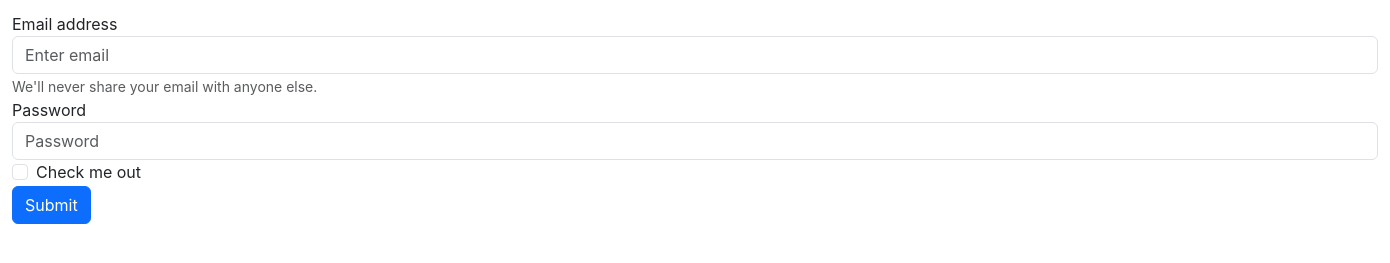
Login › displays login error from backend
Type "nate@example.com" into the field labelled "Email address" at (695, 55), box x1=12 y1=36 x2=1378 y2=74
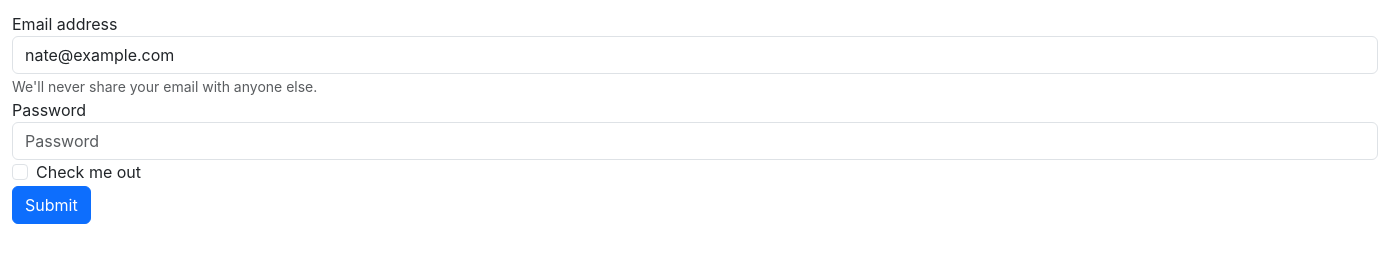
Type "password123" into the password field labelled "Password" at (695, 141), box x1=12 y1=122 x2=1378 y2=160
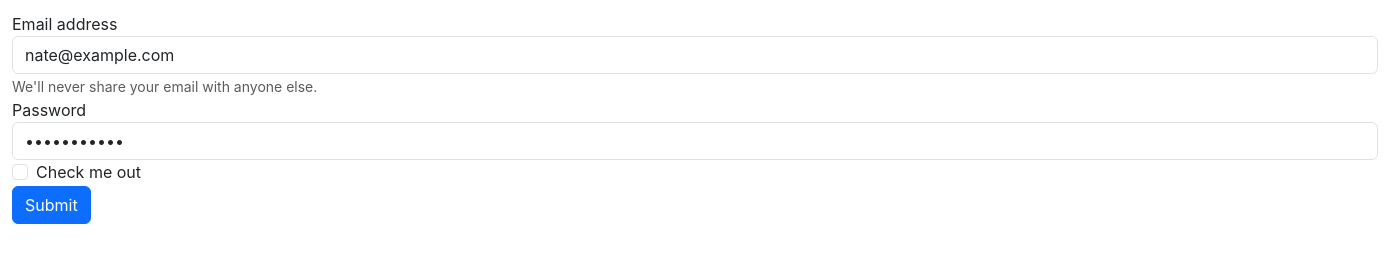
Click the button "Submit" at (51, 205), box x1=12 y1=186 x2=91 y2=224
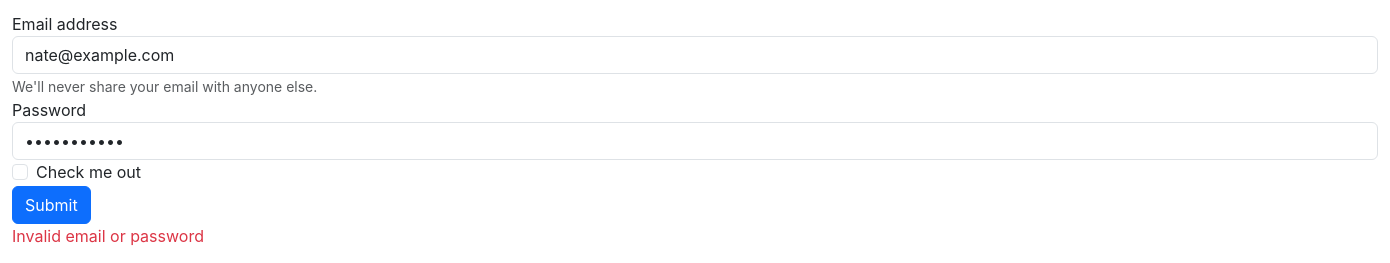
Now the text "Invalid email or password" is shown, box x1=12 y1=226 x2=204 y2=246
